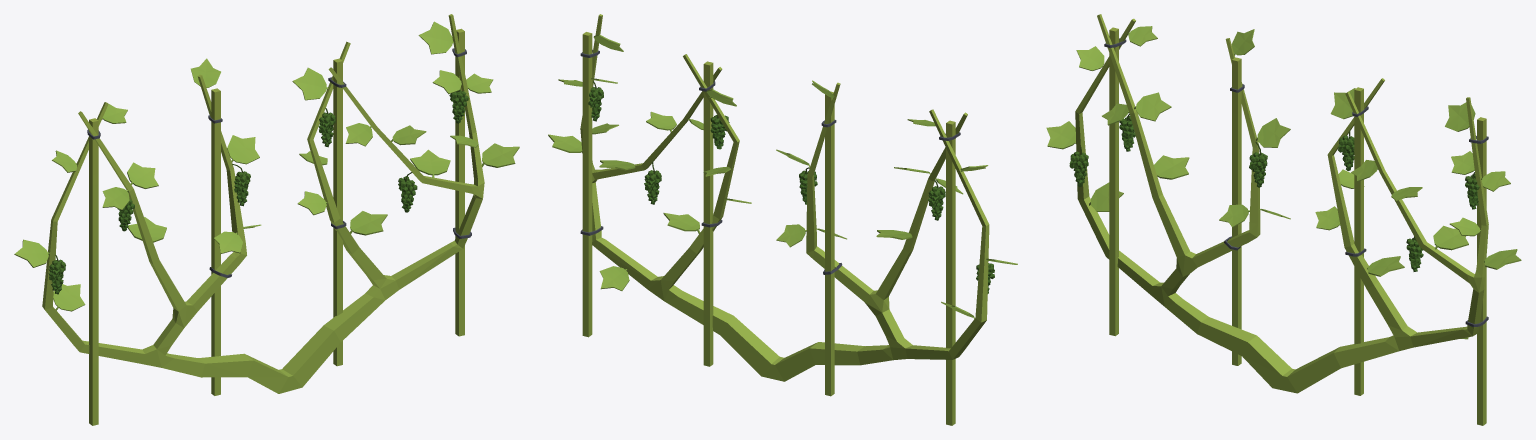
File: GrapePlant_01.fbx
3 views of the same model, side by side, from view 1: azimuth 30°, elevation 25°; view 2: azimuth 150°, elevation 25°; view 3: azimuth 330°, elevation 25° (orthographic).
Parts seen in each view (by area): view 1: GrapePlant_01; view 2: GrapePlant_01; view 3: GrapePlant_01.
Part boxes in pixels (x1=…): GrapePlant_01: x1=14, y1=14, x2=519, y2=425; GrapePlant_01: x1=548, y1=14, x2=1017, y2=425; GrapePlant_01: x1=1046, y1=14, x2=1521, y2=425.
Size of the model in its own units: 3.6 by 2.3 by 0.4655.
